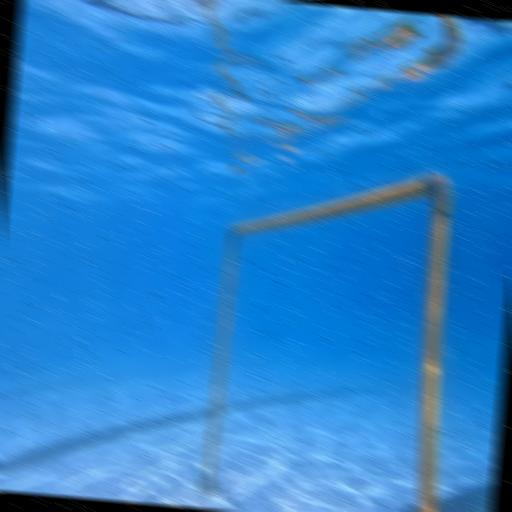gate: (196, 153, 467, 512)
